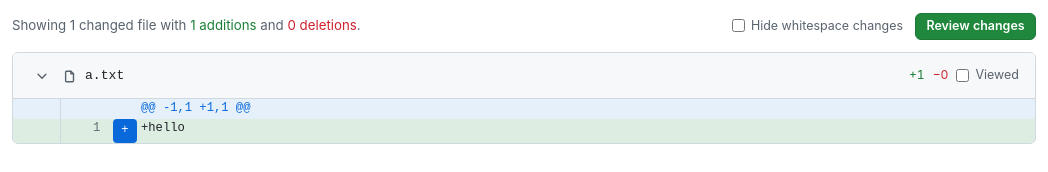
Test: PRFilesView per-file controls › marking a file Viewed collapses it and persists per PR in sessionStorage
Expected: the text "+hello" is shown, 141,120 -> 185,134
Click the checkbox named "Viewed a.txt" at (963, 76), box 956,69 -> 969,82
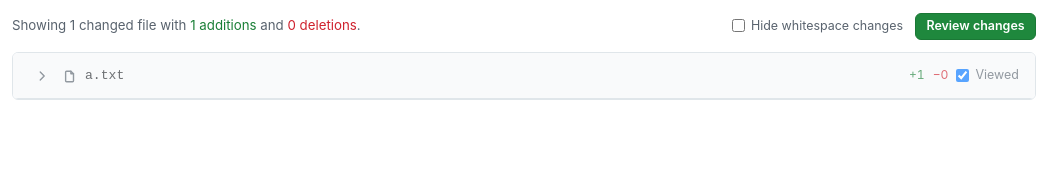
Expected: the text "+hello" is gone
Note: Chevron re-expands the diff while the file stays viewed.
Click the button named "Toggle diff for a.txt" at (42, 76), box 29,62 -> 55,88
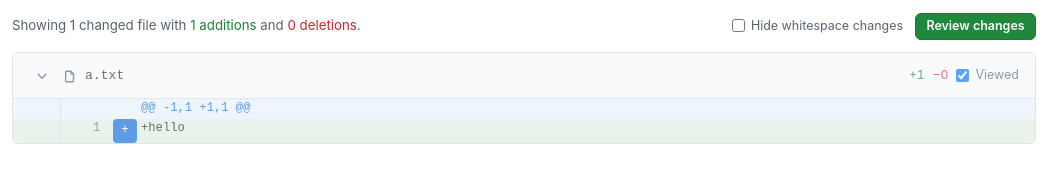
Expected: the checkbox named "Viewed a.txt" is checked, 956,69 -> 969,82
Expected: the text "+hello" is shown, 141,120 -> 185,134
